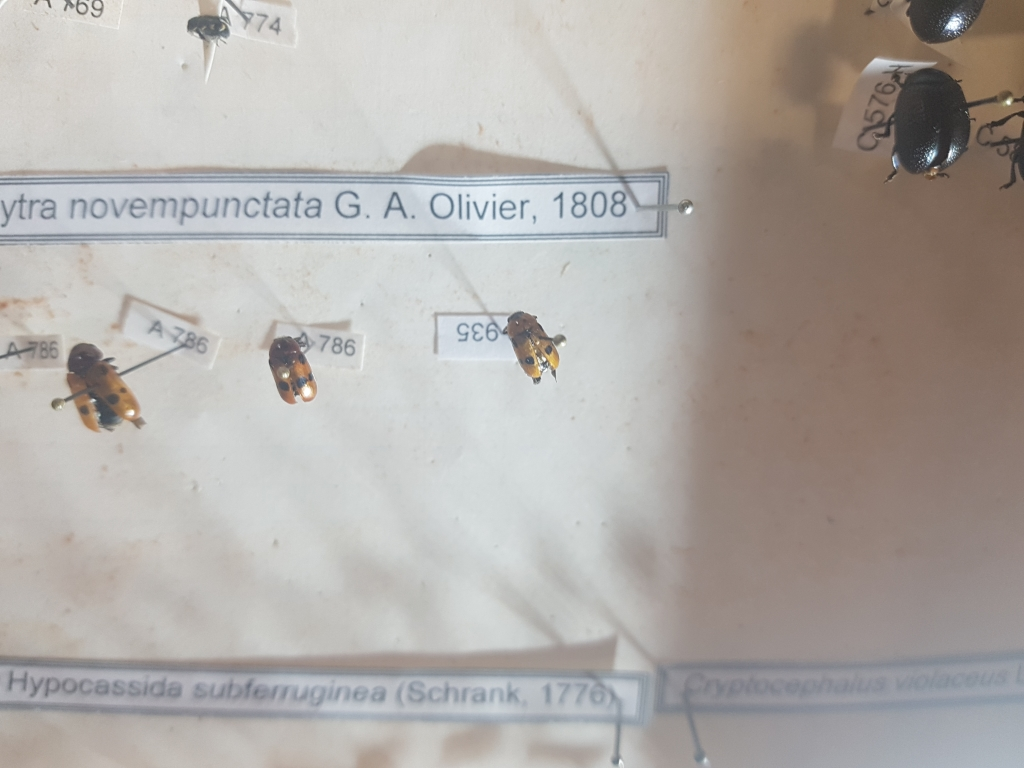Clytra_novempunctata: (57, 334, 147, 436), (500, 304, 563, 382), (261, 335, 324, 409)
